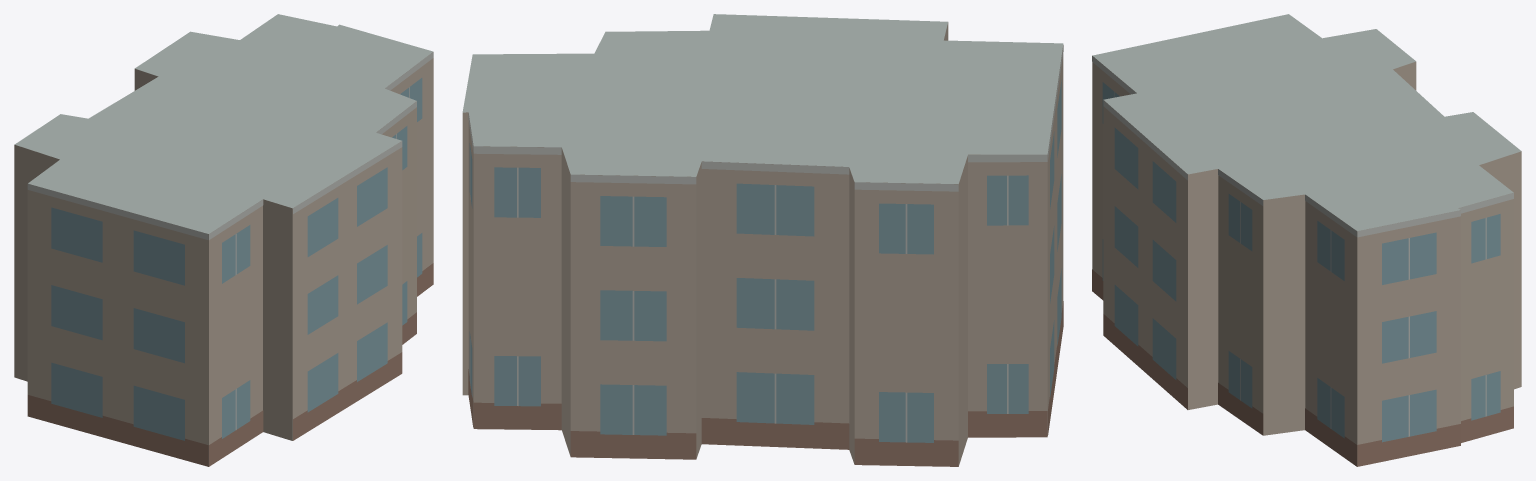
Rendered from survey-upis-32752361.glb.
3 views of the same model, side by side, from view 1: azimuth 30°, elevation 25°; view 2: azimuth 150°, elevation 25°; view 3: azimuth 270°, elevation 25° (orthographic). The views are drawn at different scales.
Parts seen in each view (by area): view 1: survey-upis-32752361.tmp; view 2: survey-upis-32752361.tmp; view 3: survey-upis-32752361.tmp.
Part boxes in pixels (x1,y1,x2,y2): survey-upis-32752361.tmp: (14, 14, 433, 466); survey-upis-32752361.tmp: (462, 14, 1063, 466); survey-upis-32752361.tmp: (1092, 14, 1521, 466).
Bounding box in the file's own units: 18.09 × 9.15 × 15.12.
